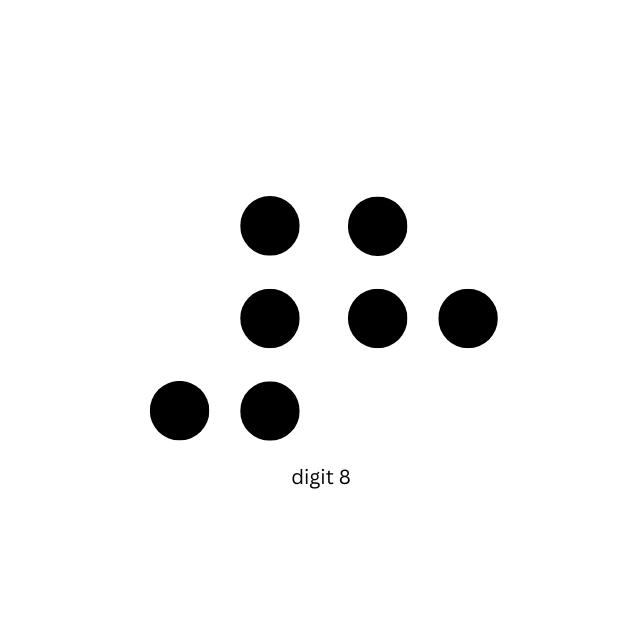digit_8: (346, 195, 500, 439)
number_sign: (150, 192, 301, 442)
